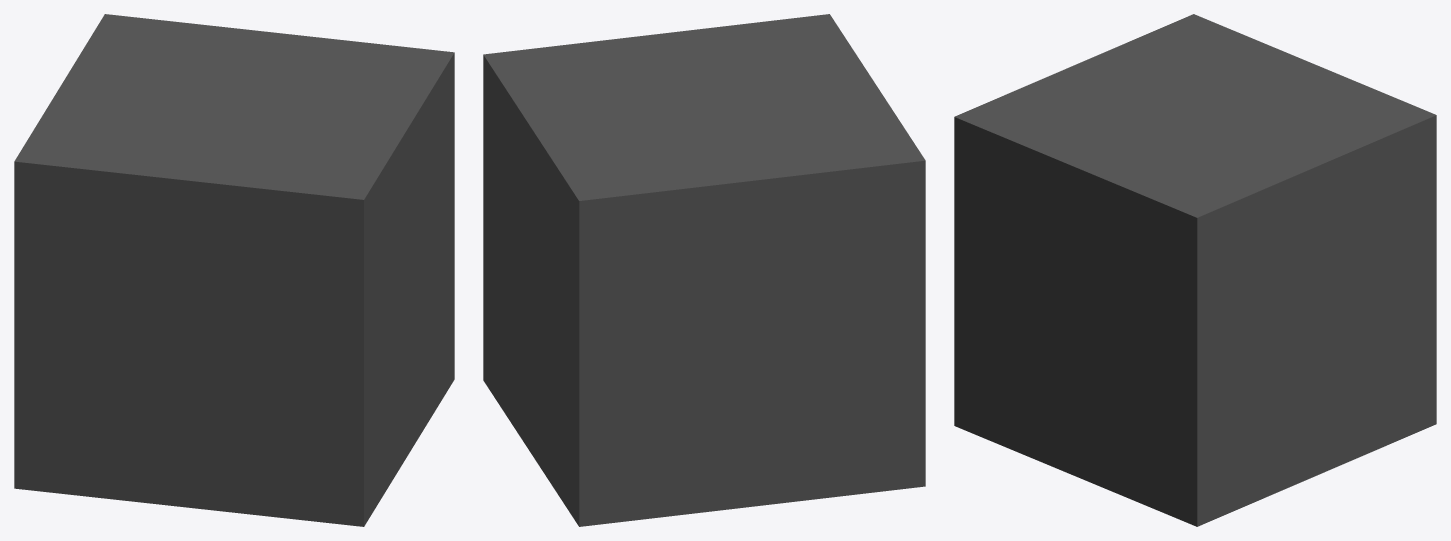
3 views of the same model, side by side, from view 1: azimuth 30°, elevation 25°; view 2: azimuth 150°, elevation 25°; view 3: azimuth 270°, elevation 25° (orthographic). The views are drawn at different scales.
Visible parts, largest first — view 1: mesh_id30; view 2: mesh_id30; view 3: mesh_id30.
Part boxes in pixels (x1,y1,x2,y2): mesh_id30: (14,14,454,526); mesh_id30: (483,14,925,526); mesh_id30: (954,14,1436,526).
Size of the model in its own units: 0.7008 by 0.4952 by 0.7008.
1 material, 1 textured.
